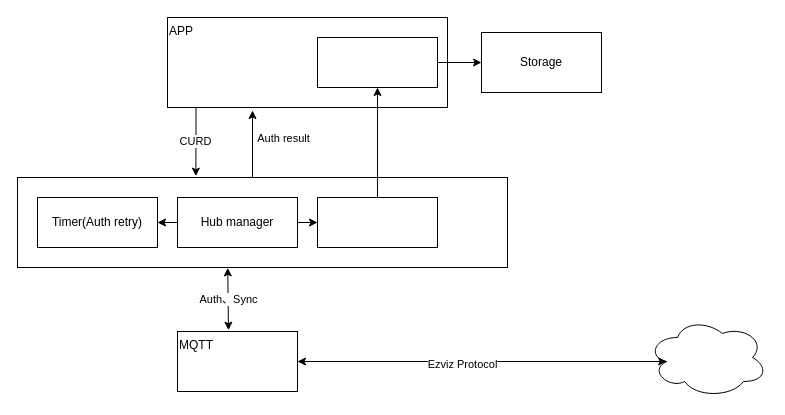
This 785x415 diagram has some shape labels left out. The centre of each missing label's shape, as x and y in pixels:
"KV Imp" goes at [377,62].
"KV Interface" goes at [377,222].
